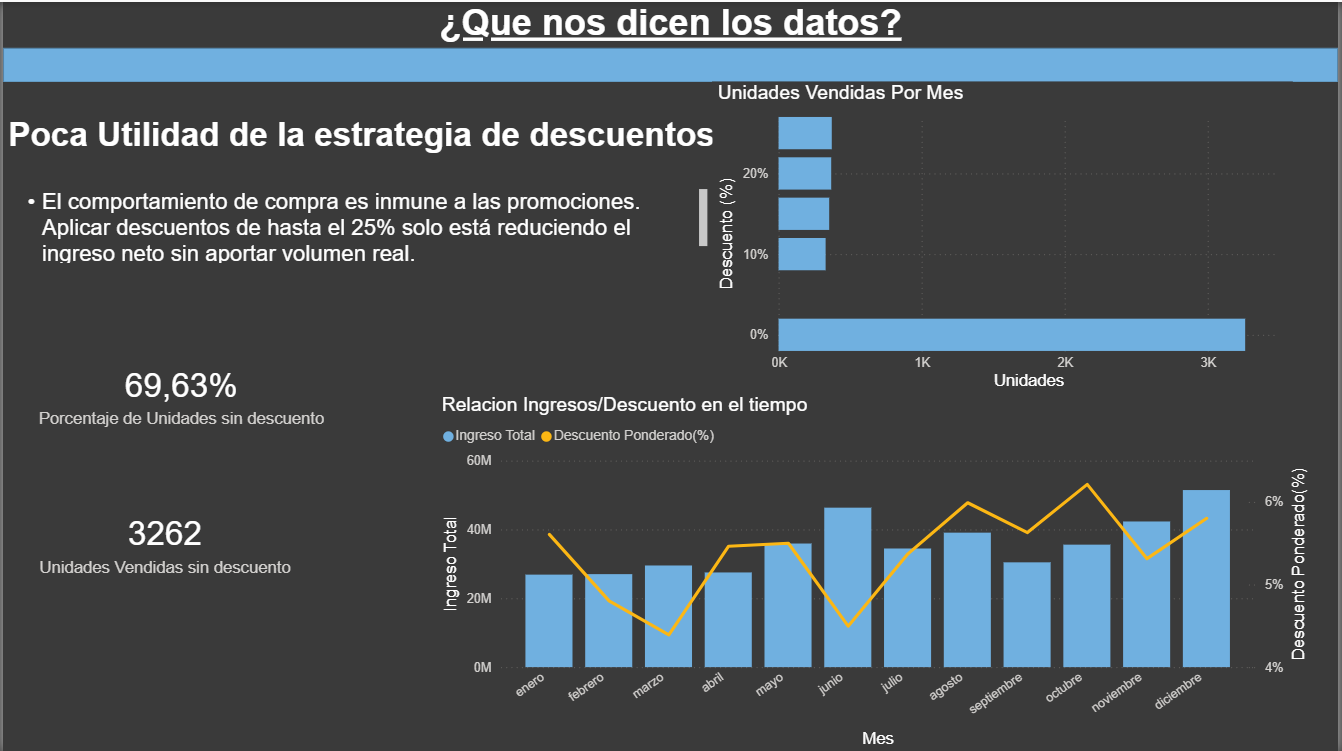

Layout of this report page (visuals, bound fields, positions):
{"tool":"powerbi","page":{"name":"Conclusión ","canvas":[1280,720],"ordinal":7},"visuals":[{"type":"shape","title":"¿Que nos dicen los datos?","box":[0,0,1280,77],"z":0},{"type":"textbox","box":[0,104,1280,150],"z":1000},{"type":"textbox","box":[0,174,680,80],"z":2000},{"type":"card","fields":{"Values":["Fechas.Pct_Unidades_Sin_Descuento"]},"box":[1.6,299.3,338.6,152.8],"z":3000},{"type":"card","fields":{"Values":["Fechas.Unidades_Sin_Descuento"]},"box":[1.6,452,307.1,132.3],"z":4000},{"type":"clusteredBarChart","title":"Unidades Vendidas Por Mes","fields":{"Category":["Hoja2.Descuento_Pct"],"Y":["Sum(Hoja2.Unidades)"]},"box":[680,76,556,300],"z":5000},{"type":"lineClusteredColumnComboChart","title":"Relacion Ingresos/Descuento en el tiempo","fields":{"Category":["Fechas.Nombre Mes"],"Y":["TablaRetail.Ingreso Total"],"Y2":["TablaRetail.Descuento Ponderado Pct"]},"box":[416,376,840,344],"z":6000}]}

Visuals, with their boxes in screenshot pixels (x1, y1, x2, y2), scaled from the page's 1280x720 canvas onto the 1342x751 screenshot:
"¿Que nos dicen los datos?" shape: (0, 0, 1341, 80)
textbox: (0, 108, 1341, 265)
textbox: (0, 181, 713, 265)
card - Fechas.Pct_Unidades_Sin_Descuento: (2, 312, 357, 472)
card - Fechas.Unidades_Sin_Descuento: (2, 471, 324, 609)
"Unidades Vendidas Por Mes" clusteredBarChart: (713, 79, 1296, 392)
"Relacion Ingresos/Descuento en el tiempo" lineClusteredColumnComboChart: (436, 392, 1317, 750)
